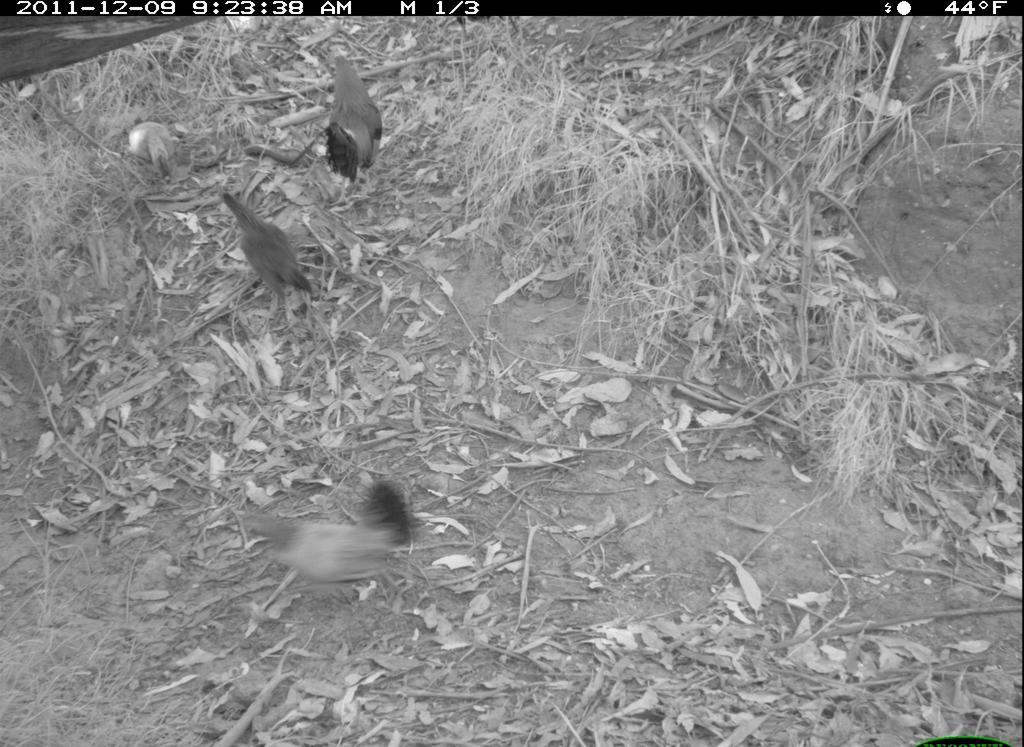bird: (227, 465, 422, 624), (212, 184, 321, 329), (310, 49, 407, 204)
